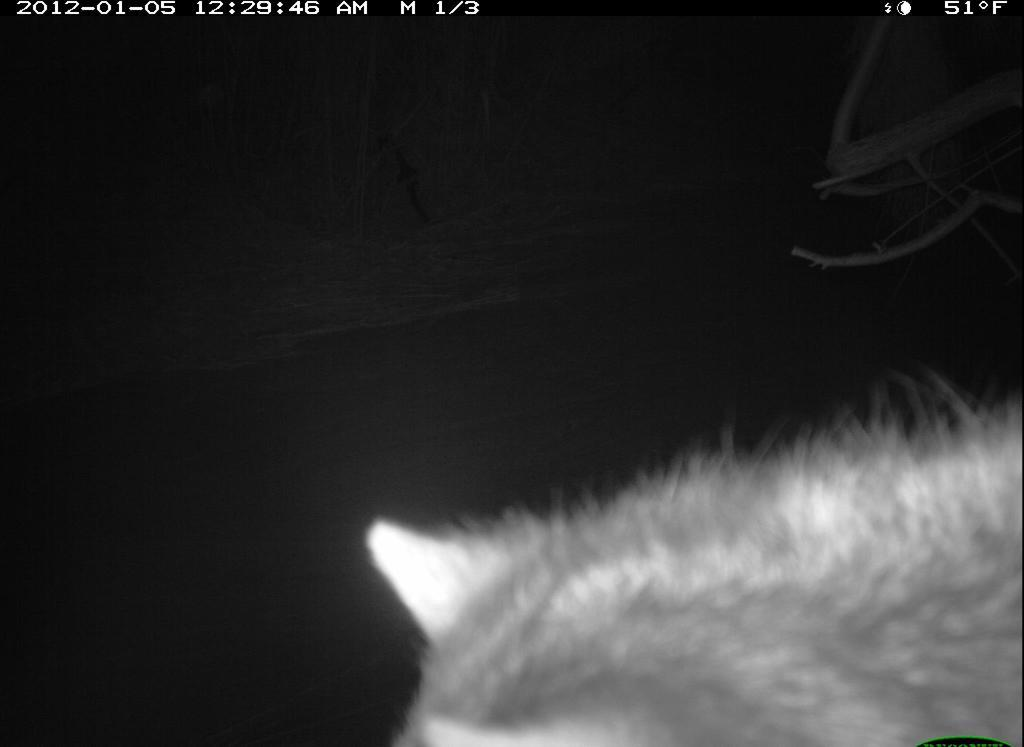raccoon: (350, 351, 1023, 747)
